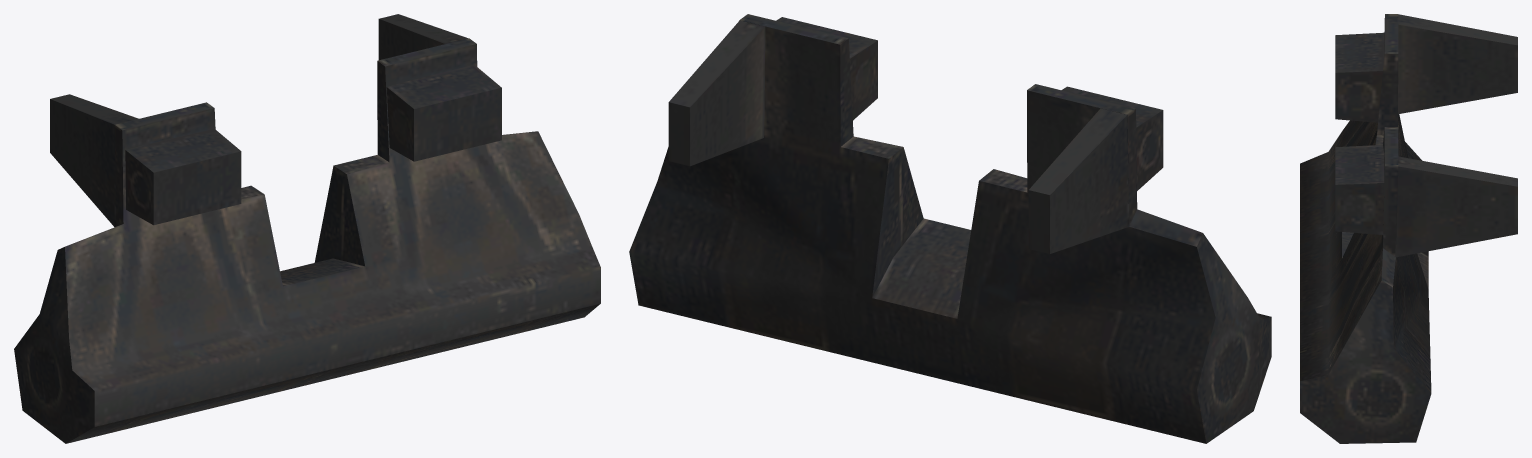
The picture shows the model from 3 angles, left to right: view 1: azimuth 30°, elevation 25°; view 2: azimuth 150°, elevation 25°; view 3: azimuth 270°, elevation 25°; orthographic projection. The views are drawn at different scales.
Visible parts, largest first — view 1: set_0_group_0; view 2: set_0_group_0; view 3: set_0_group_0.
Part boxes in pixels (bbox=[...]): set_0_group_0: bbox=[14, 14, 600, 443]; set_0_group_0: bbox=[629, 14, 1271, 443]; set_0_group_0: bbox=[1300, 14, 1517, 443].
Size of the model in its own units: 0.2608 by 0.132 by 0.1076.
Materials: 1 (1 with a texture image).
